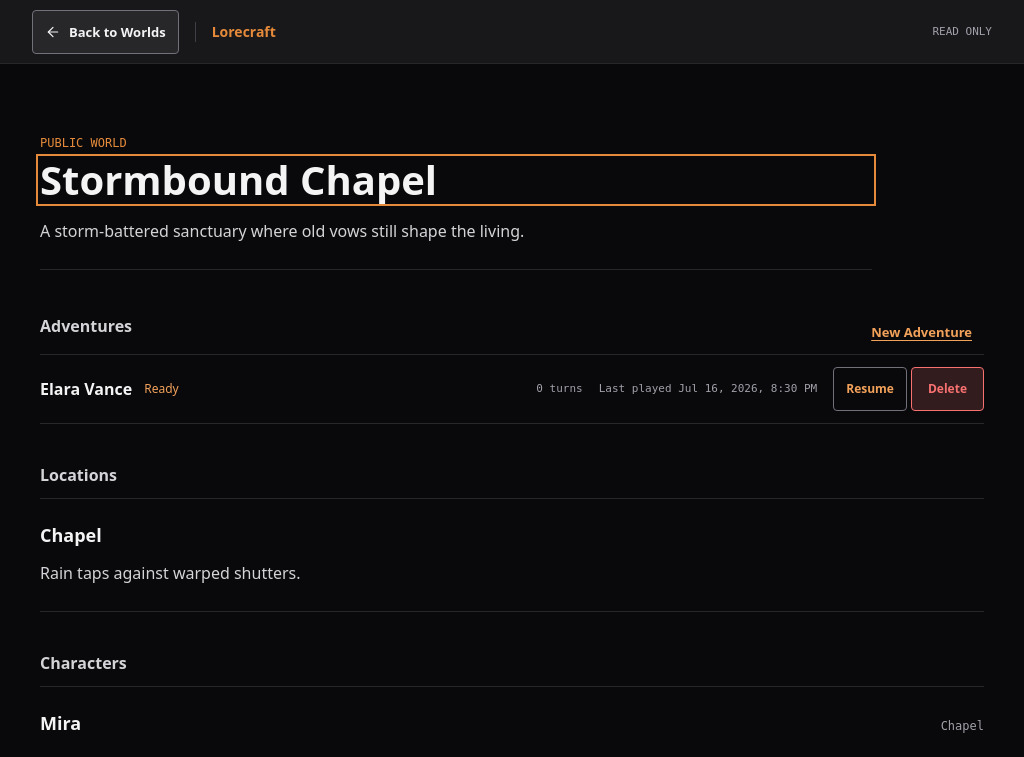
Test: World catalog and detail routes › LC-003 keeps World canon stable while an Adventure delete is pending
Click the button with aria-label "Delete Adventure for Elara Vance".
click(948, 389)  # box [911,367,984,411]
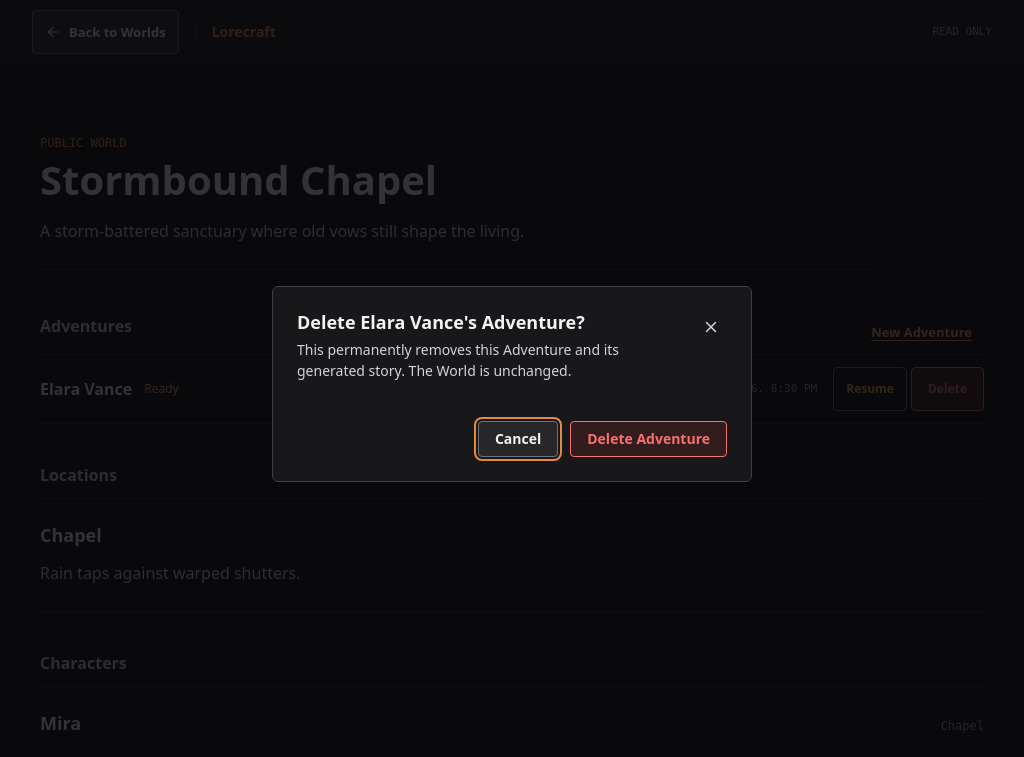
Click the button "Delete Adventure".
click(649, 439)  # box [570,421,727,457]
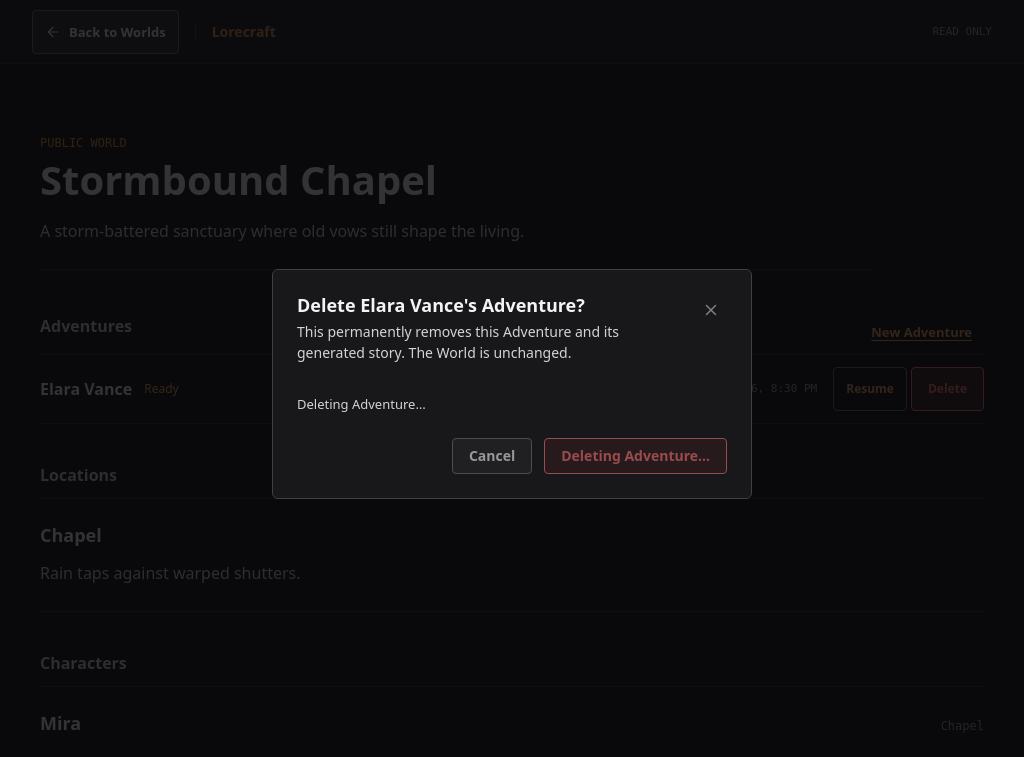
expect the heading "Locations" is shown: met, box [40,464,984,499]
expect the button "Deleting Adventure…" is disabled: met, box [544,438,727,474]
